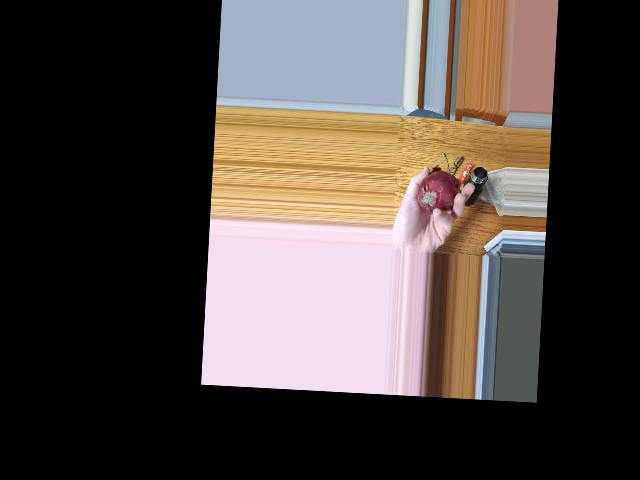onion: (416, 173, 456, 215)
